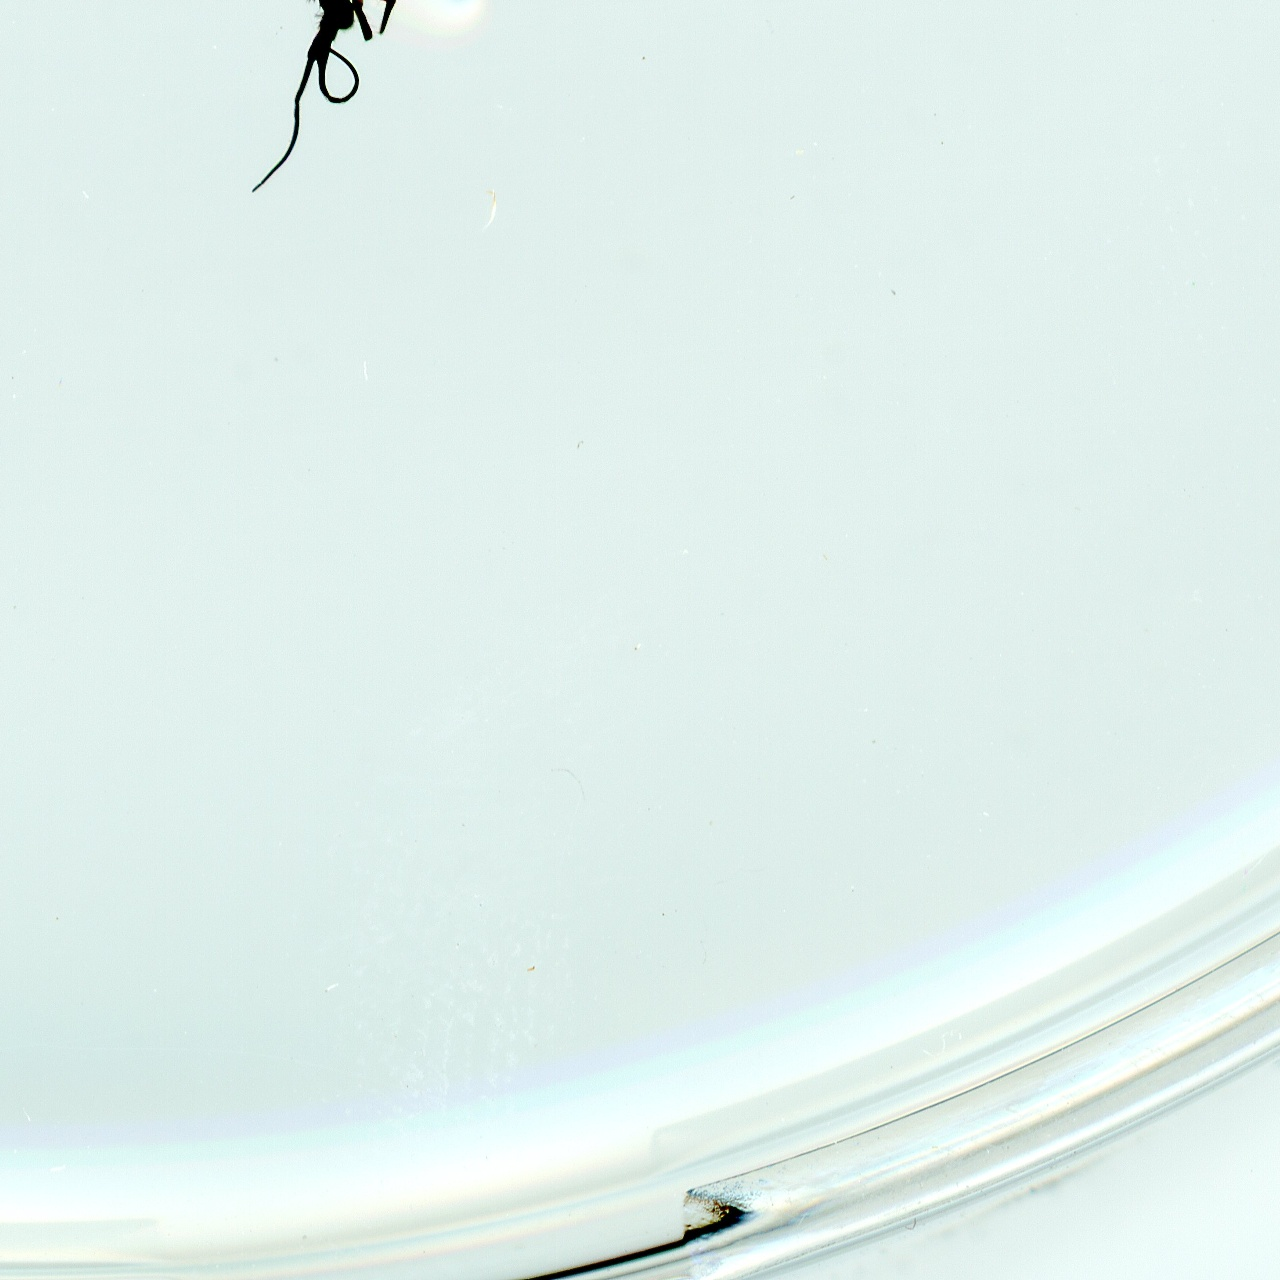arthropod: (200, 0, 538, 257)
